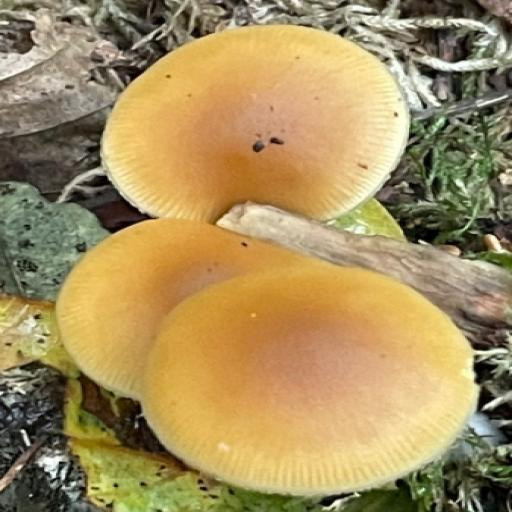mushroom: (56, 14, 483, 500)
